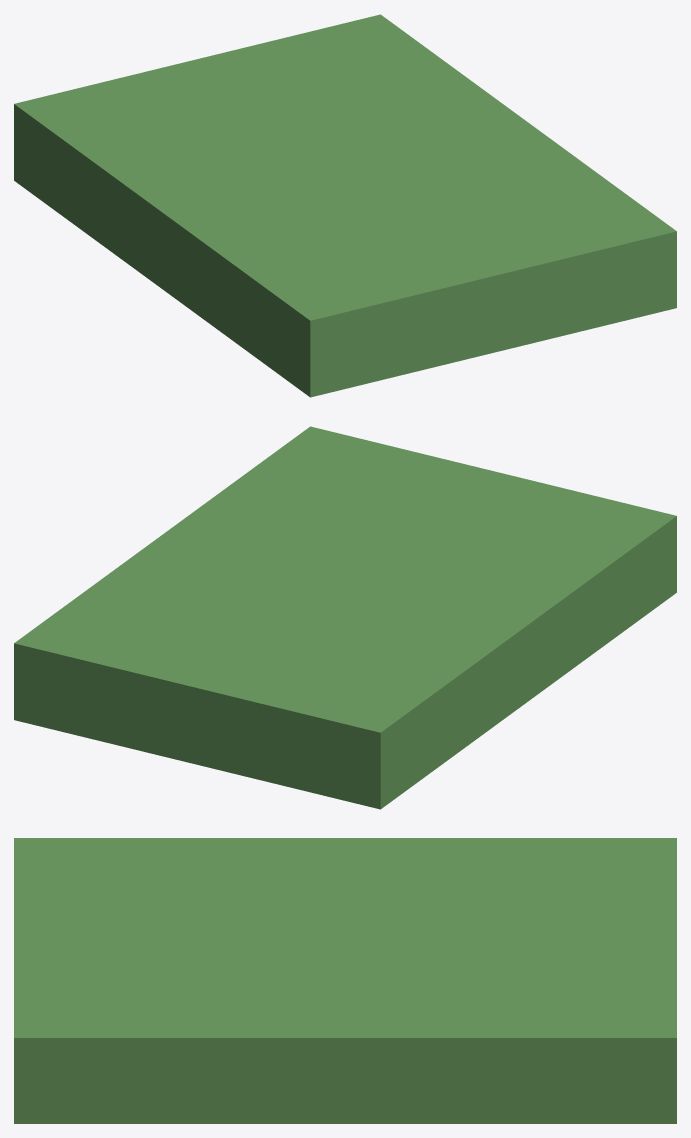
Rendered from tome_recipes.dae.
3 views of the same model, one above another, from view 1: azimuth 30°, elevation 25°; view 2: azimuth 150°, elevation 25°; view 3: azimuth 270°, elevation 25° (orthographic). The views are drawn at different scales.
Parts seen in each view (by area): view 1: Cube; view 2: Cube; view 3: Cube.
Part boxes in pixels (x1,y1,x2,y2): Cube: [14, 14, 676, 397]; Cube: [14, 426, 676, 809]; Cube: [14, 838, 676, 1123].
Size of the model in its own units: 20 by 28 by 4.
